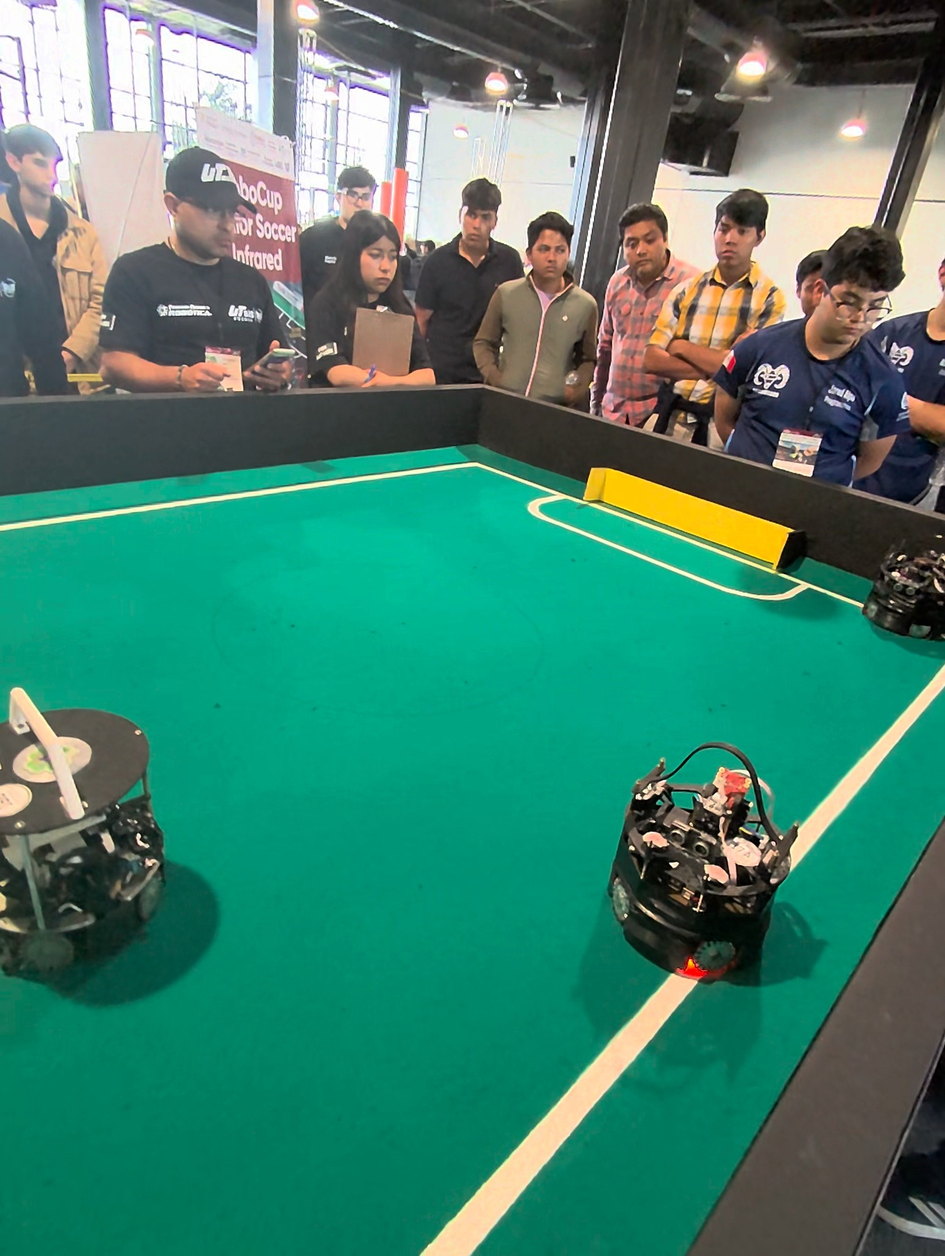Robot: (1, 664, 209, 1007), (610, 732, 801, 993), (866, 533, 945, 648)
